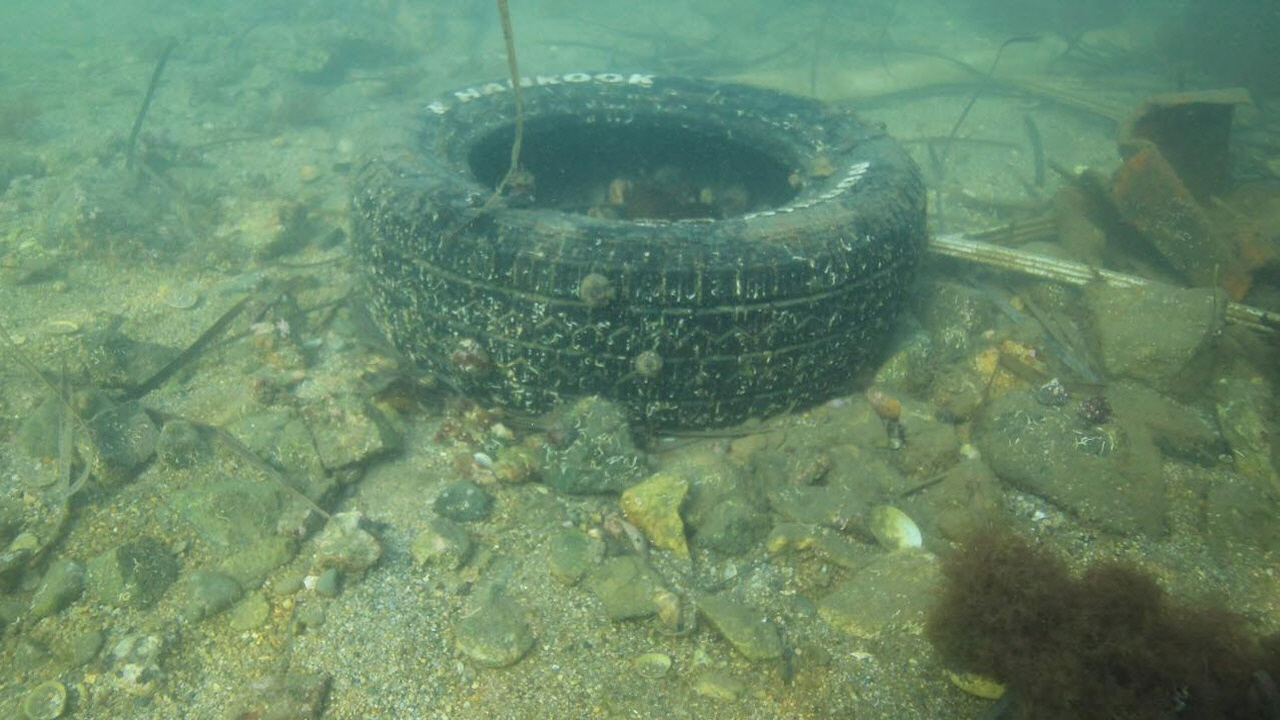tire: (347, 70, 924, 435)
